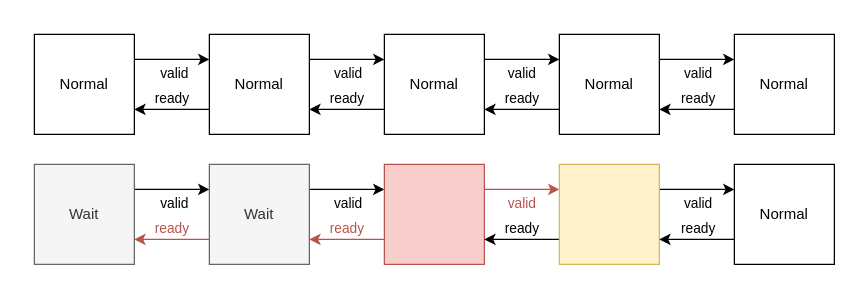
This 868x298 diagram has some shape labels left out. Here are the shapes that lost their labels. From the top down, the box of each, then its label:
(383, 163, 484, 264): Stall
(558, 163, 659, 264): Bubble
